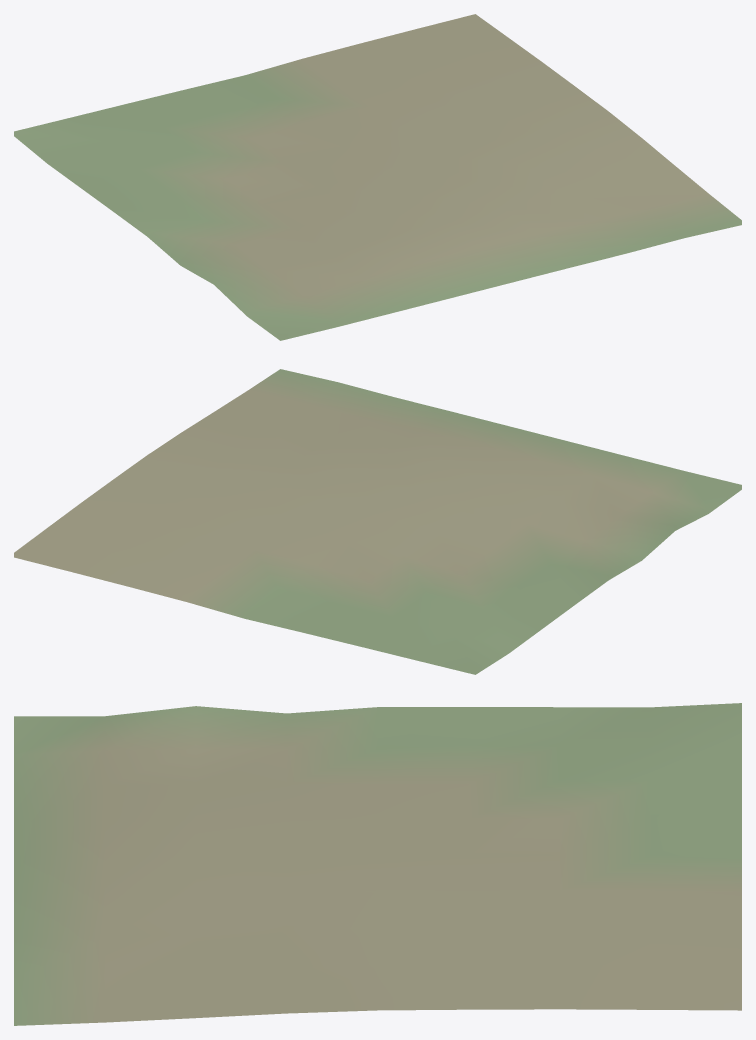
3 views of the same model, one above another, from view 1: azimuth 30°, elevation 25°; view 2: azimuth 150°, elevation 25°; view 3: azimuth 270°, elevation 25° (orthographic). The views are drawn at different scales.
Parts seen in each view (by area): view 1: prim0; view 2: prim0; view 3: prim0.
Boxes of the visible parts, x1=… form: prim0: x1=14, y1=14, x2=741, y2=340; prim0: x1=14, y1=369, x2=741, y2=674; prim0: x1=14, y1=703, x2=741, y2=1025.
Size of the model in its own units: 512 by 21.39 by 512.
